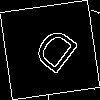D: (25, 25, 81, 84)
